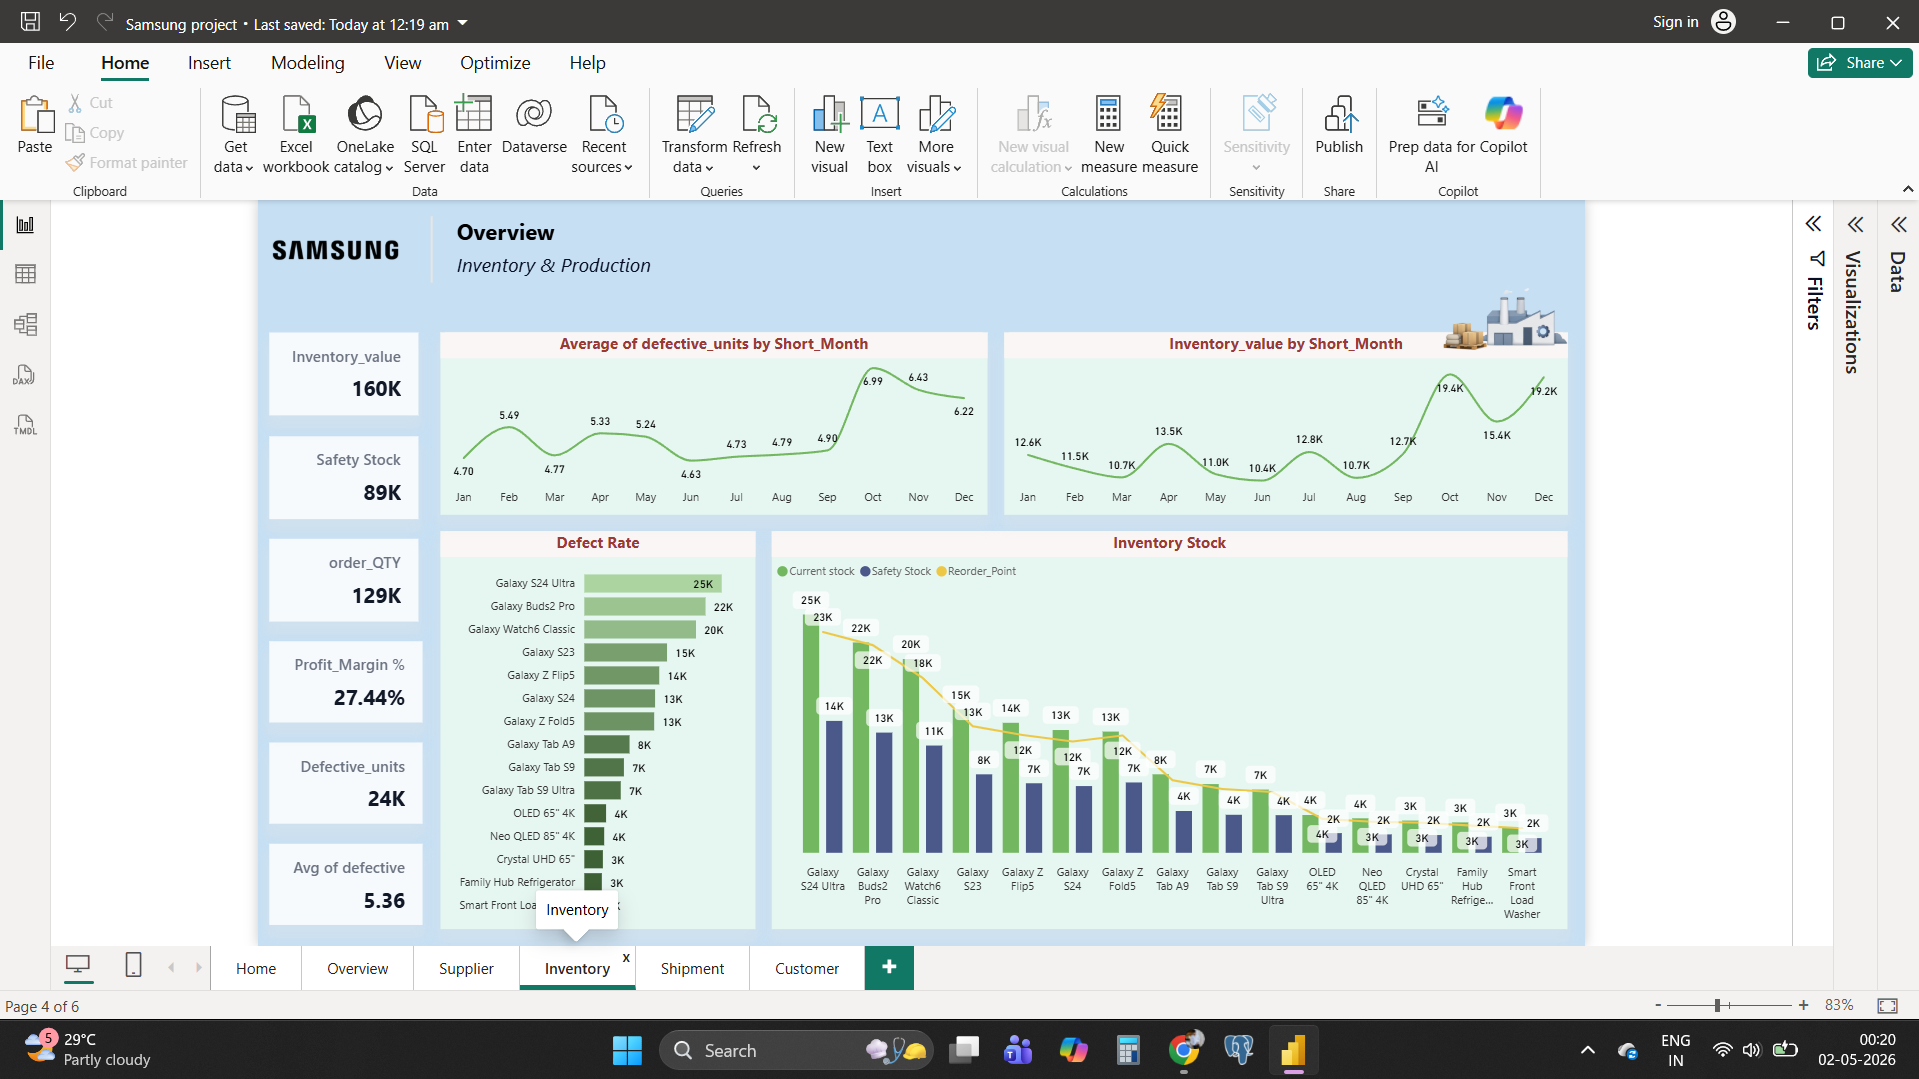

The dashboard page shown, as its layout file describes it:
{"tool":"powerbi","page":{"name":"Inventory","canvas":[1280,720],"ordinal":3},"visuals":[{"type":"shape","title":"Overview","box":[192,16,256,64],"z":0},{"type":"shape","box":[144,16,48,64],"z":1000},{"type":"image","box":[0,0,144,96],"z":2000},{"type":"cardVisual","fields":{"Data":["Sum(fact_production.defective_units)"]},"box":[10.5,523.9,148,78],"z":3000},{"type":"cardVisual","fields":{"Data":["Measures_table.Profit_Margin %"]},"box":[10.5,426.4,148,78],"z":4000},{"type":"cardVisual","fields":{"Data":["Avg(fact_production.defective_units)"]},"box":[10.5,621.4,148,78],"z":5000},{"type":"cardVisual","fields":{"Data":["Measures_table.order_QTY"]},"box":[10.5,327,144,80],"z":6000},{"type":"clusteredBarChart","title":"Defect Rate","fields":{"Y":["Measures_table.Inventory_value"],"Category":["dim_product.product_name"]},"box":[176,320,304,384],"z":7000},{"type":"cardVisual","fields":{"Data":["Measures_table.Safety Stock"]},"box":[10.5,227.5,144,80],"z":8000},{"type":"cardVisual","fields":{"Data":["Measures_table.Inventory_value"]},"box":[10.5,128,144,80],"z":9000},{"type":"lineClusteredColumnComboChart","title":"Inventory Stock ","fields":{"Category":["dim_product.product_name"],"Y":["Measures_table.Inventory_value","Measures_table.Safety Stock"],"Y2":["Measures_table.Reorder_Point"]},"box":[496,320,768,384],"z":10000},{"type":"lineChart","fields":{"Y":["Avg(fact_production.defective_units)"],"Category":["dim_date.Short_Month"]},"box":[176,128,528,176],"z":11000},{"type":"lineChart","fields":{"Category":["dim_date.Short_Month"],"Y":["Measures_table.Inventory_value"]},"box":[720,128,544,176],"z":12000},{"type":"image","box":[1120,64,160,96],"z":13500}]}

Visuals, with their boxes on the page's 1280x720 design canvas (x1, y1, x2, y2). These are canvas units, not pixel positions in the 1919x1079 screenshot, which may show the page scaled, cropped or inside an application window:
"Overview" shape: l=192, t=16, r=448, b=80
shape: l=144, t=16, r=192, b=80
image: l=0, t=0, r=144, b=96
cardVisual - Sum(fact_production.defective_units): l=10, t=524, r=158, b=602
cardVisual - Measures_table.Profit_Margin %: l=10, t=426, r=158, b=504
cardVisual - Avg(fact_production.defective_units): l=10, t=621, r=158, b=699
cardVisual - Measures_table.order_QTY: l=10, t=327, r=154, b=407
"Defect Rate" clusteredBarChart: l=176, t=320, r=480, b=704
cardVisual - Measures_table.Safety Stock: l=10, t=228, r=154, b=308
cardVisual - Measures_table.Inventory_value: l=10, t=128, r=154, b=208
"Inventory Stock " lineClusteredColumnComboChart: l=496, t=320, r=1264, b=704
lineChart - Avg(fact_production.defective_units) x dim_date.Short_Month: l=176, t=128, r=704, b=304
lineChart - dim_date.Short_Month x Measures_table.Inventory_value: l=720, t=128, r=1264, b=304
image: l=1120, t=64, r=1280, b=160
